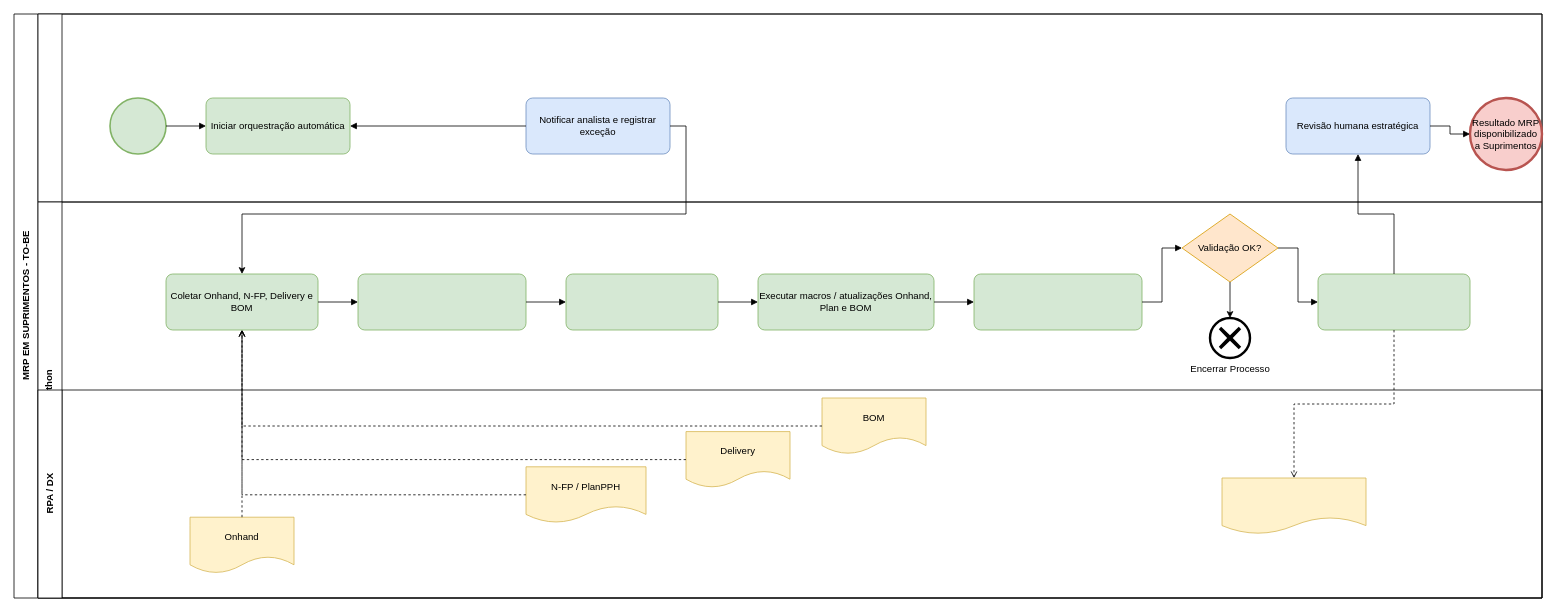
Image size: 1557x612. Some labels were removed from this diagram. The box of each missing label's shape, as (x1, y1, x2, y2) in pixels:
Analista de Suprimentos: (37, 13, 1542, 202)
Consolidar dados na nova Master All: (565, 273, 718, 330)
Gerar relatório de capacidade / necessidades: (1317, 273, 1470, 330)
Higienizar e padronizar dados com Python/Pandas: (357, 273, 526, 330)
Relatório / evidências: (1221, 477, 1366, 534)
Timer 07h30: (109, 97, 166, 154)
Validar datas, fórmulas, valores e integridade: (973, 273, 1142, 330)
